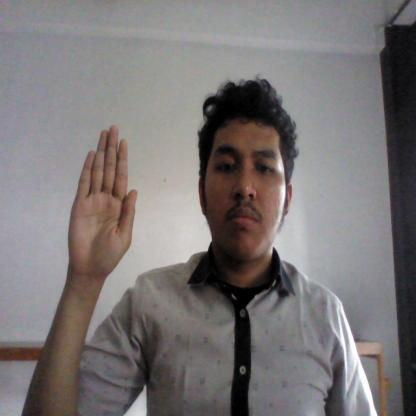Halo: (60, 110, 147, 295)
